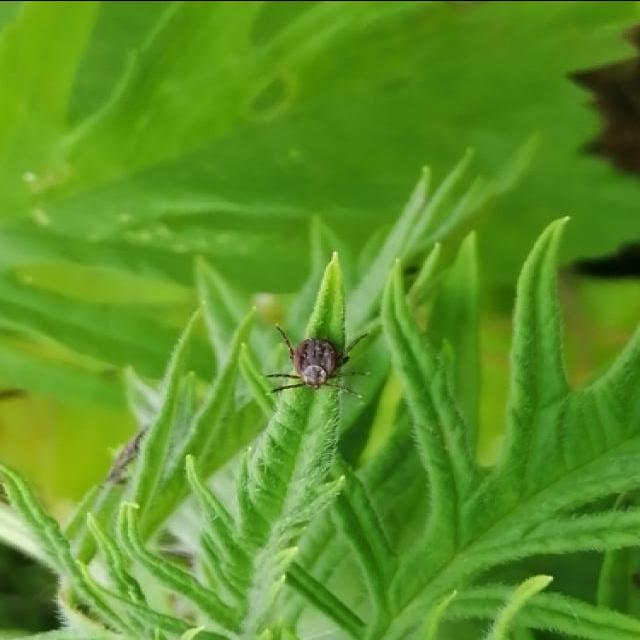Dermacentor Reticulatus-F: (266, 325, 370, 397)
